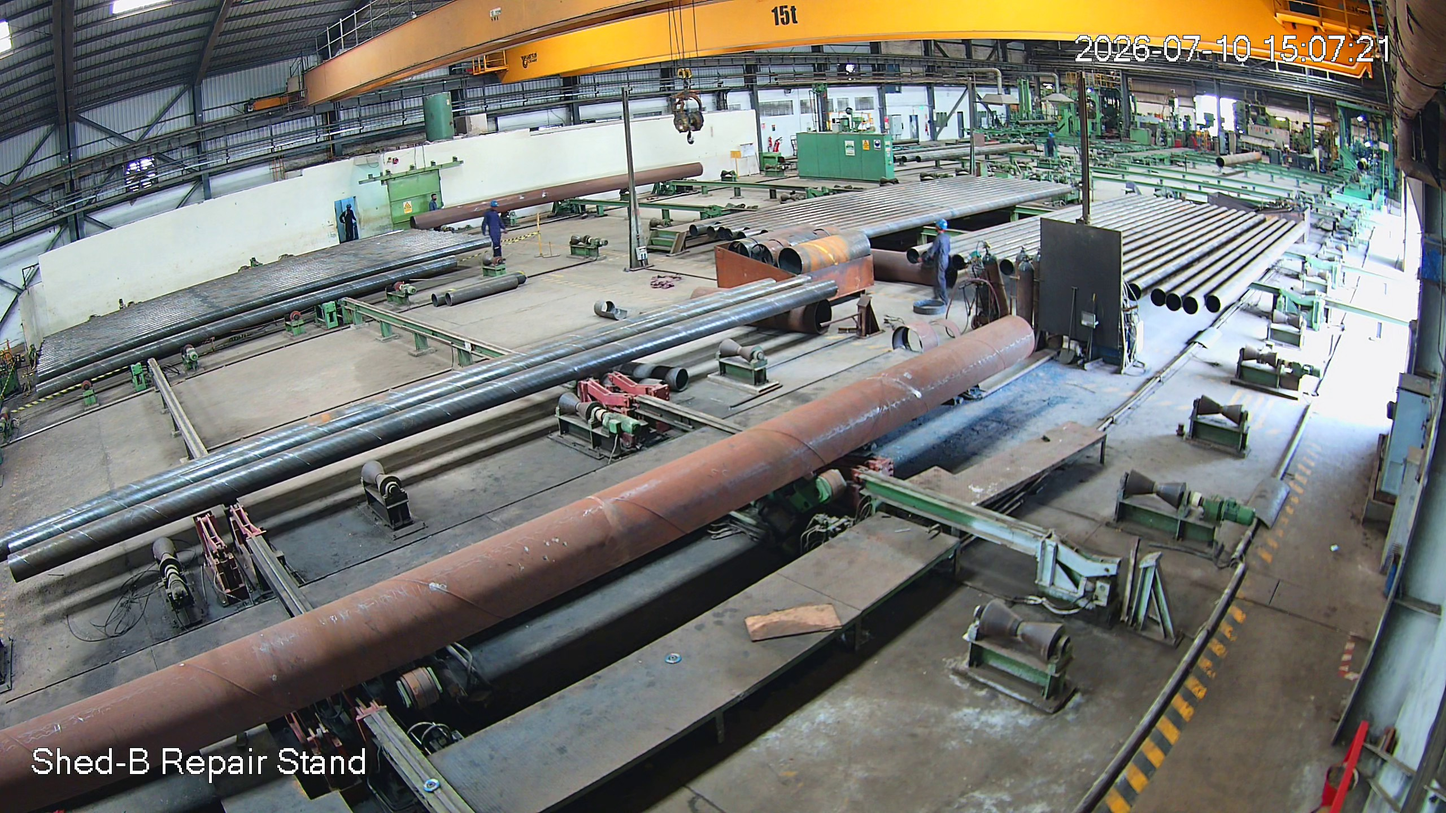Helmet: (934, 216, 951, 238), (486, 195, 503, 217)
Person: (931, 219, 954, 300), (479, 199, 507, 259)
